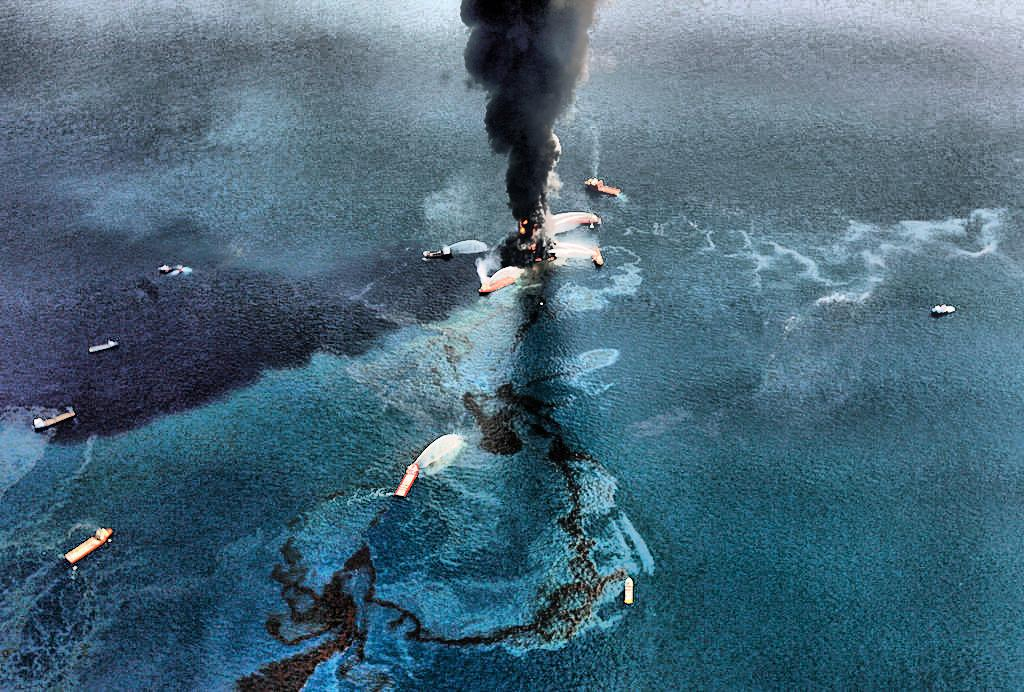truecolor: (377, 480, 621, 651), (238, 546, 375, 692), (463, 393, 598, 475)
